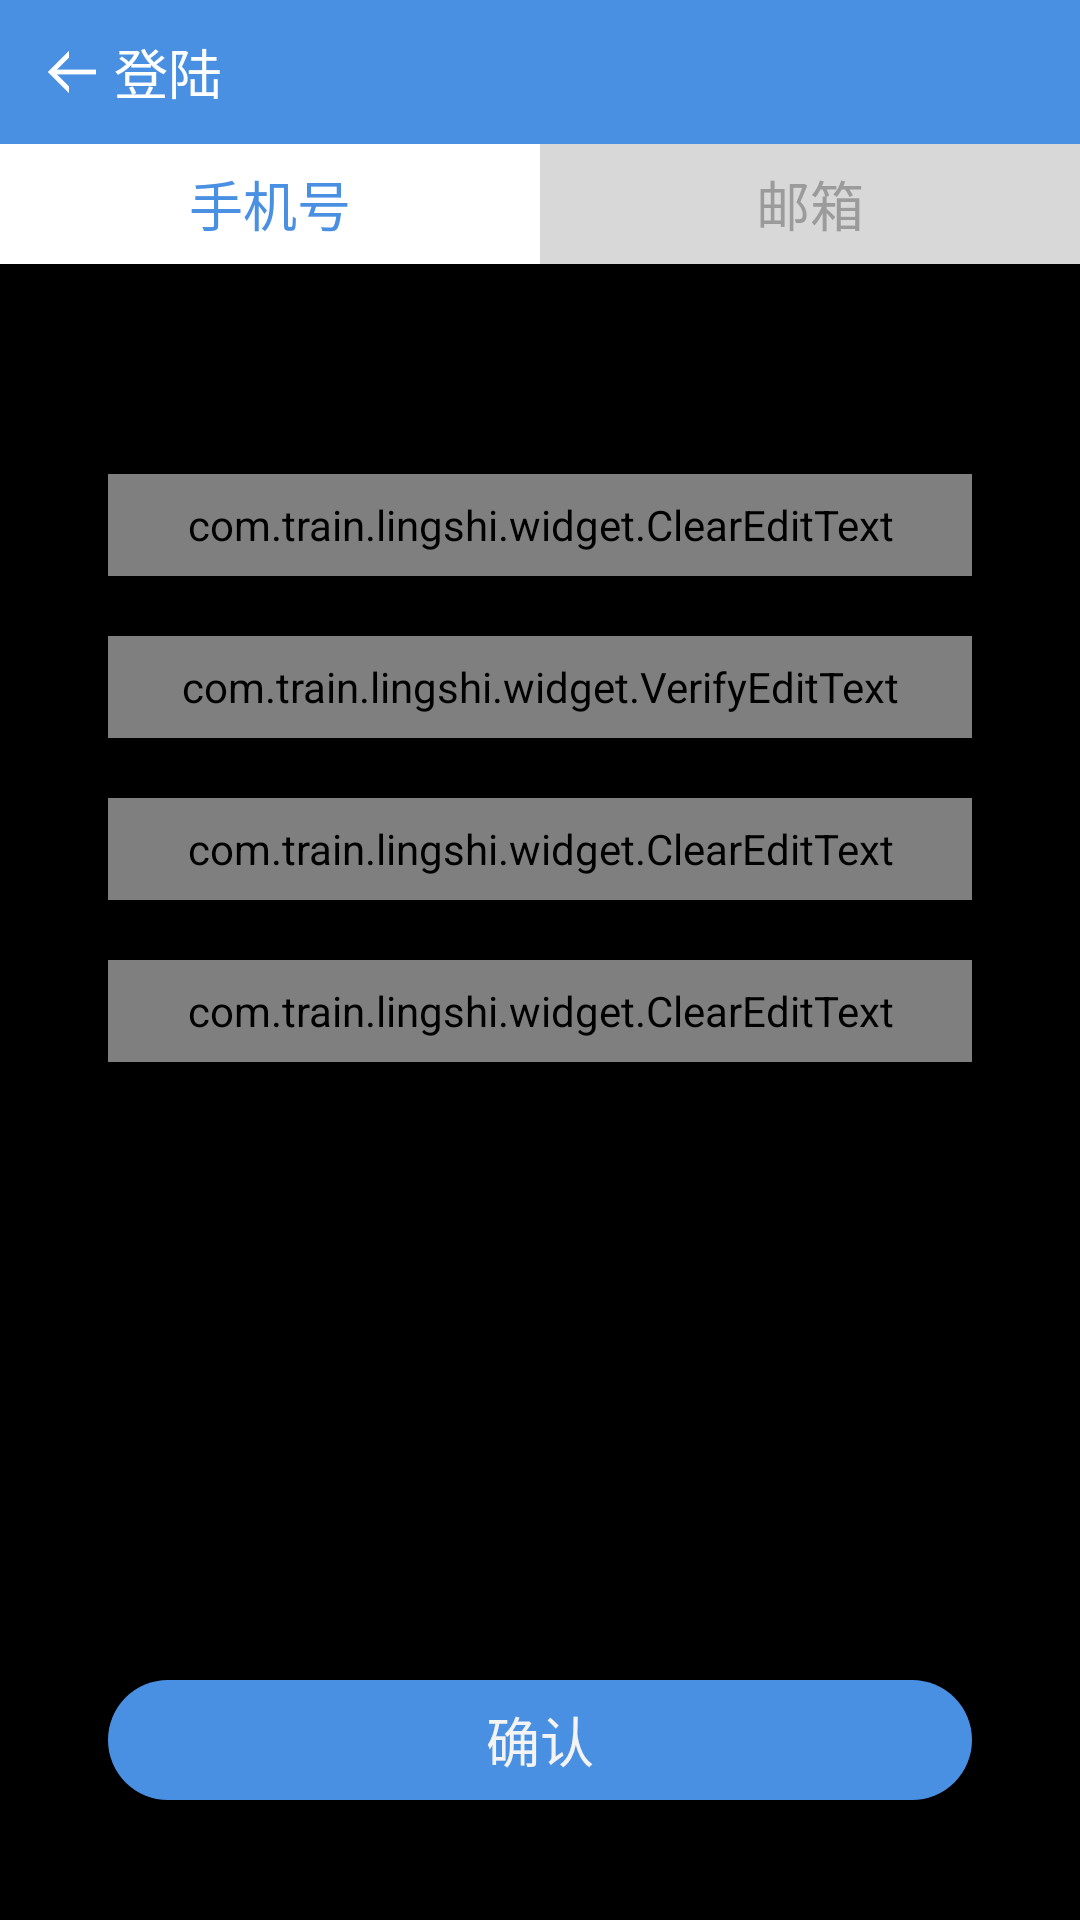

Icons on this 1080 × 1920 Android screen, each with the point to tap as point (x, y):
fanhui: point (72, 72)
